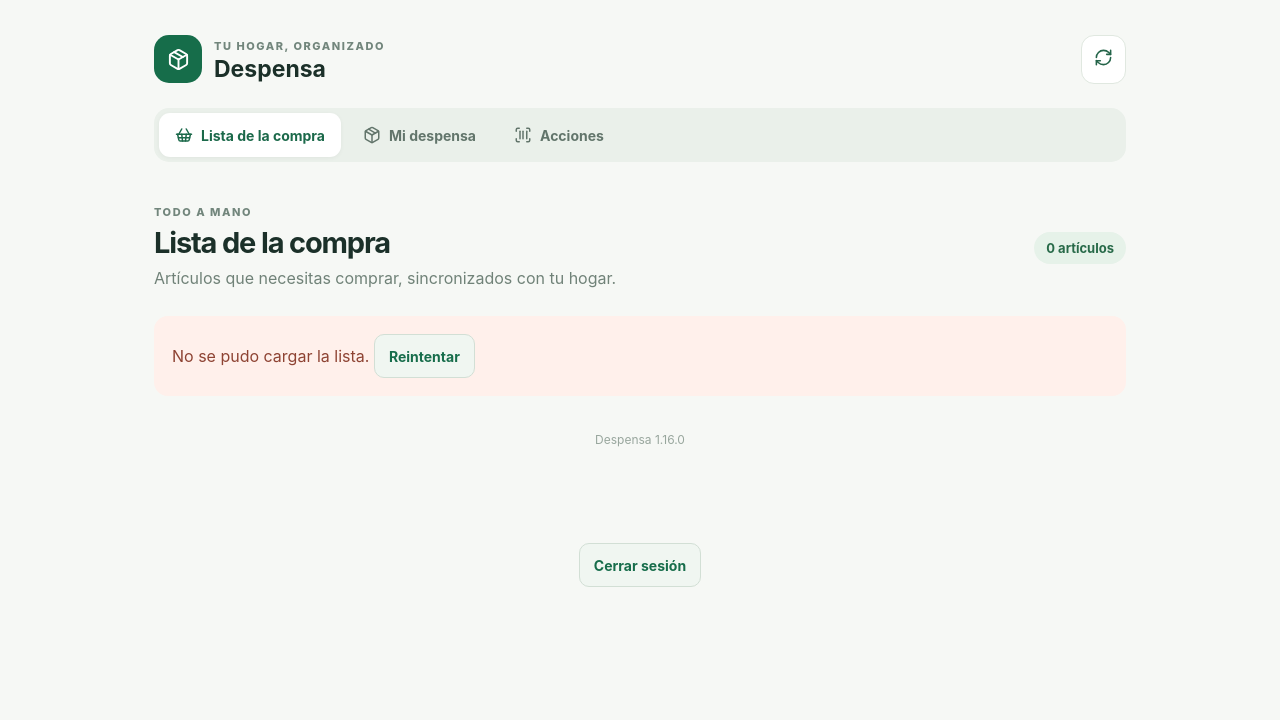
Test case: retries a failed shopping read without issuing a mutation
Step 1. Click the button "Reintentar" → (424, 356), box [374,334,475,378]
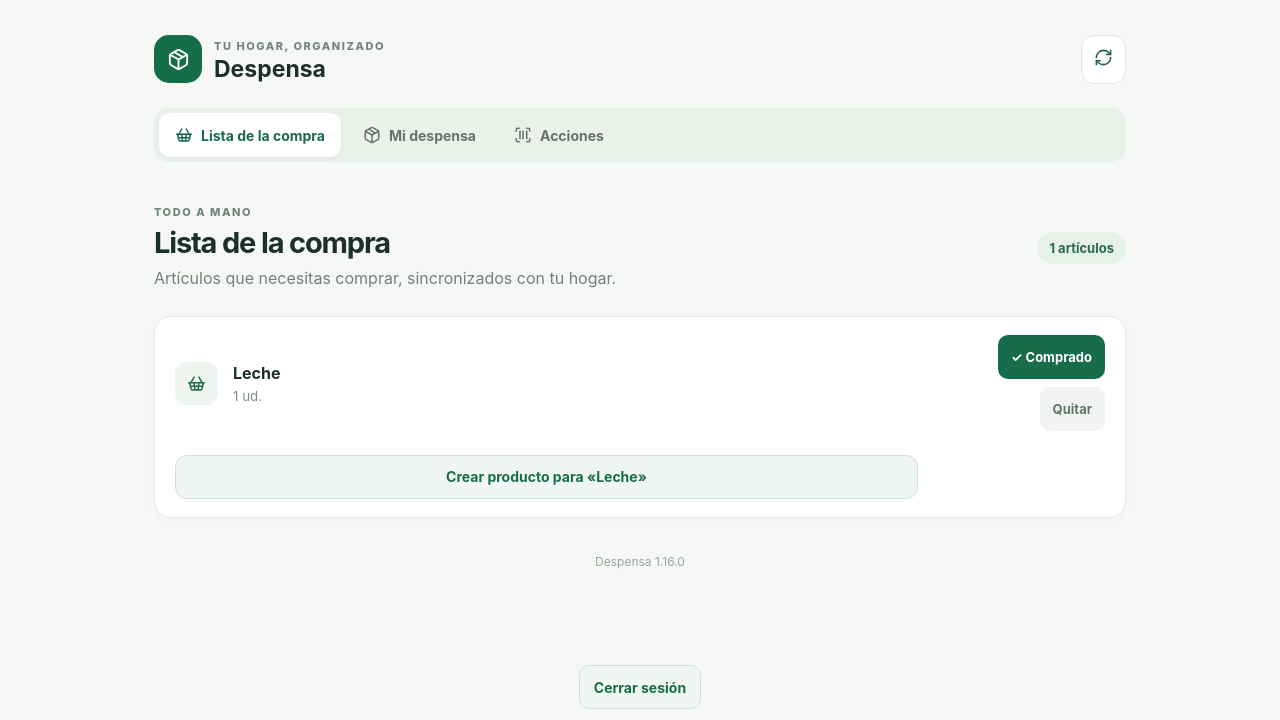
Now the text "Leche" is shown, box [233,362,280,382]
